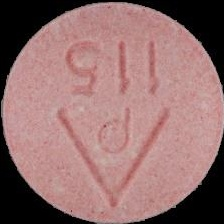33261-413: (0, 0, 224, 224)
